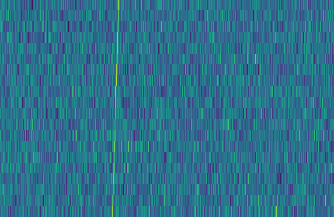signal: (106, 0, 122, 217)
